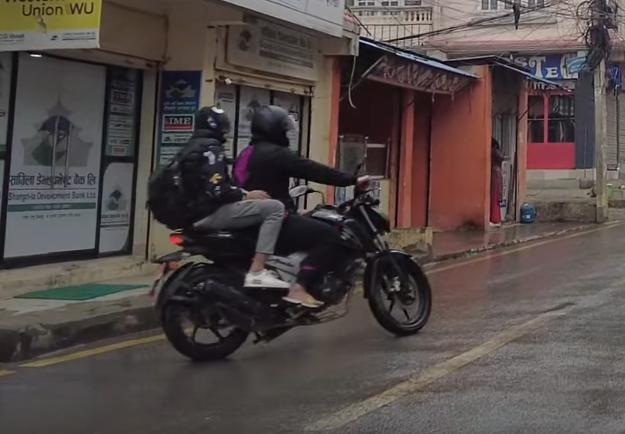bike: (148, 179, 442, 366)
